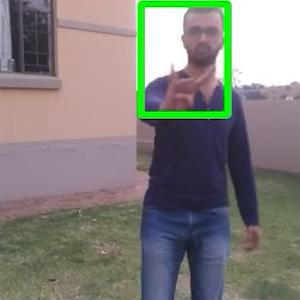takeoff-hand: (161, 53, 219, 120)
